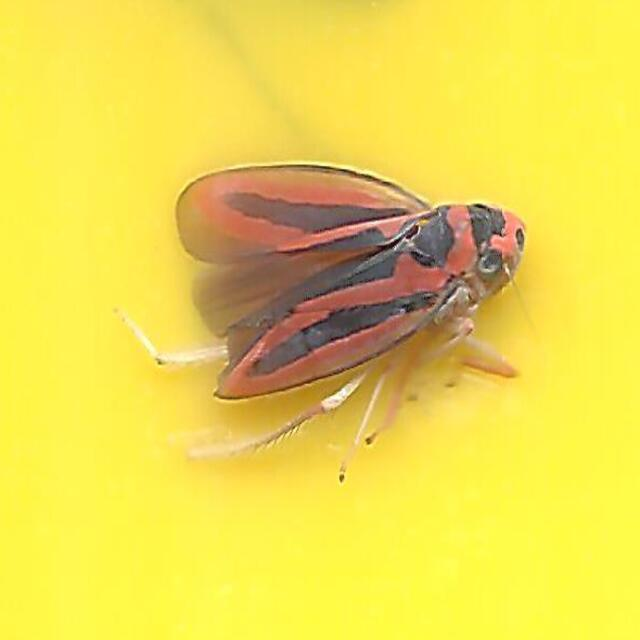Hemiptera: (108, 155, 532, 485)
